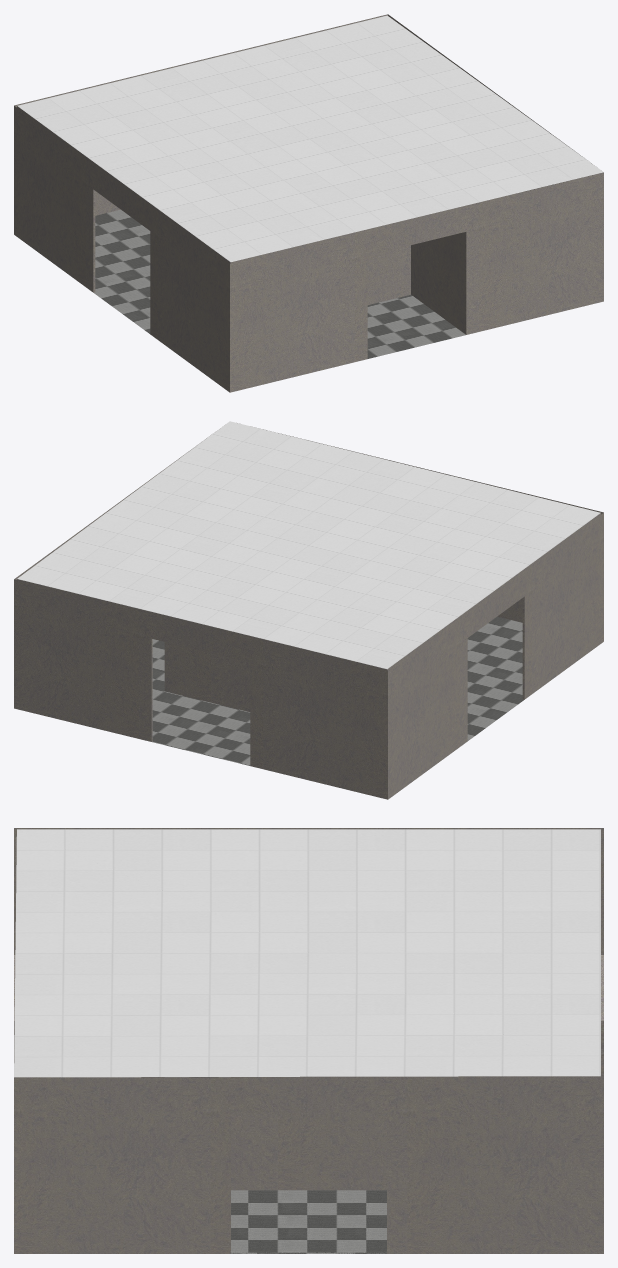
File: 4exitwhirly.glb
3 views of the same model, one above another, from view 1: azimuth 30°, elevation 25°; view 2: azimuth 150°, elevation 25°; view 3: azimuth 270°, elevation 25° (orthographic). The views are drawn at different scales.
Visible parts, largest first — view 1: 4exitwhirly; view 2: 4exitwhirly; view 3: 4exitwhirly.
Boxes of the visible parts, x1,y1,x2,y2 form: 4exitwhirly: [14, 14, 603, 392]; 4exitwhirly: [14, 421, 603, 799]; 4exitwhirly: [14, 828, 603, 1253].
Size of what is drawn, in the model's own units: 15.15 by 5 by 15.15.
3 materials, 3 textured.
